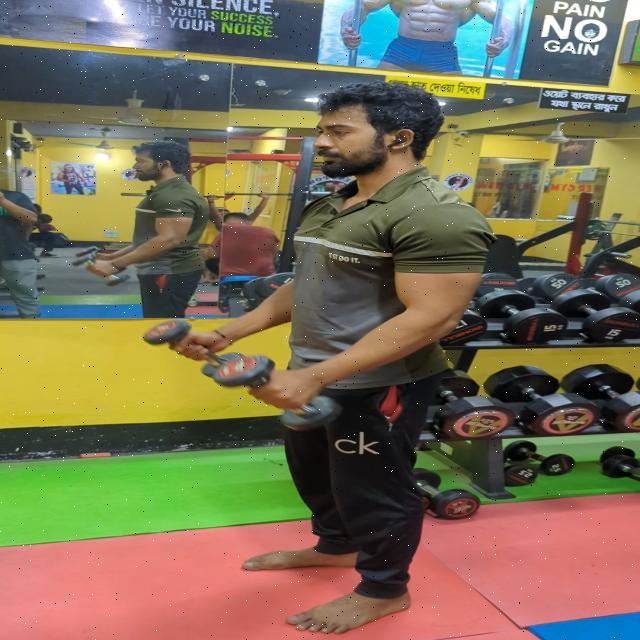Normal_DumbbellBicepCurls: (166, 89, 537, 618)
